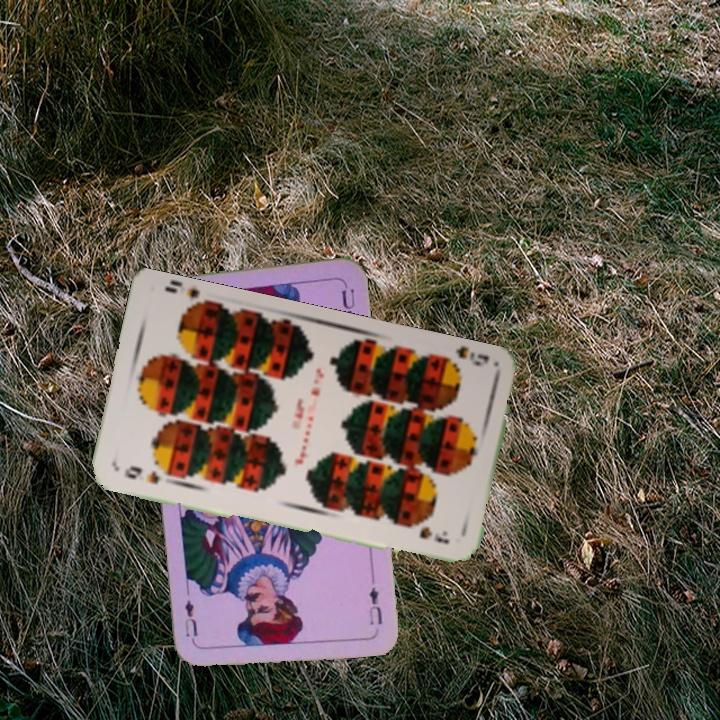EU: (363, 583, 385, 628)
S9: (437, 344, 492, 372), (120, 462, 163, 487)
